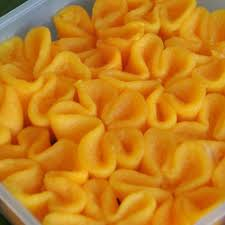tongyip: (112, 130, 220, 225), (104, 37, 205, 128), (53, 78, 145, 177), (3, 35, 99, 128), (4, 127, 89, 216)
